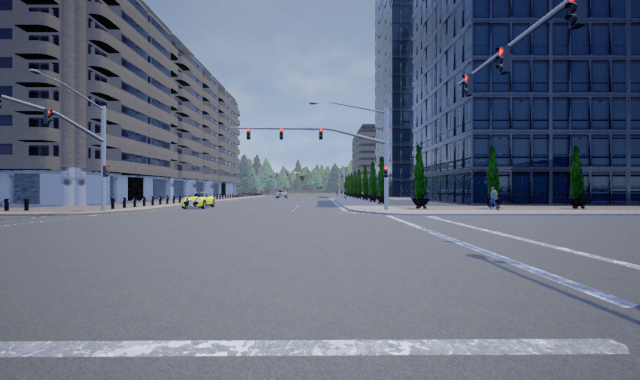pedestrian: (486, 185, 500, 210)
traffic_light: (563, 1, 588, 31), (494, 44, 510, 74), (462, 71, 474, 97), (43, 106, 53, 128), (102, 164, 110, 178), (382, 165, 388, 180), (318, 125, 323, 140), (246, 127, 250, 141), (279, 127, 283, 140)
vehicle: (182, 191, 215, 208), (275, 189, 289, 199)
